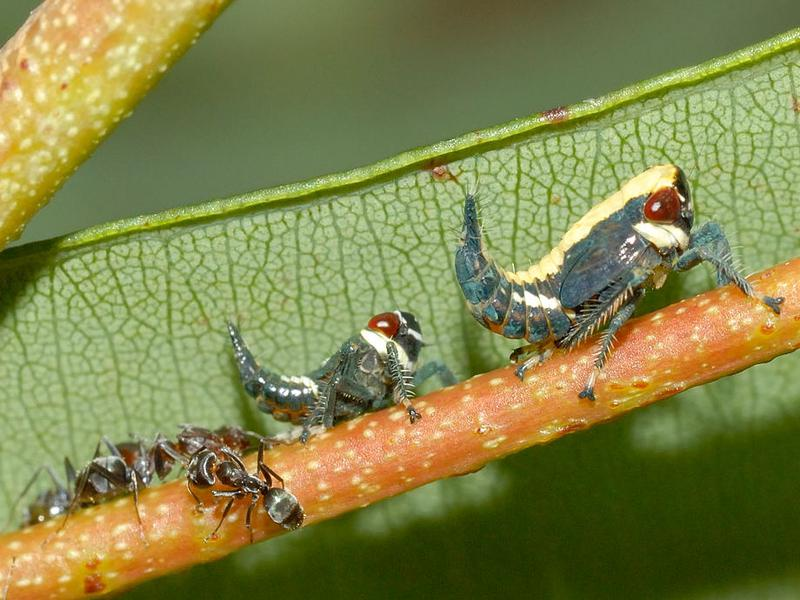Brown_plant_leafhopper: (431, 174, 727, 369), (47, 414, 316, 567), (187, 301, 430, 441)
